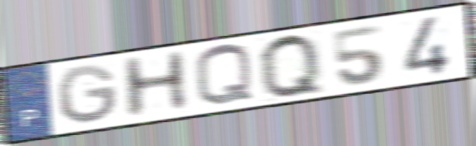4: (401, 12, 453, 78)
5: (329, 22, 387, 87)
G: (54, 63, 121, 126)
H: (118, 49, 193, 122)
Q: (255, 31, 328, 100), (191, 42, 258, 109)
